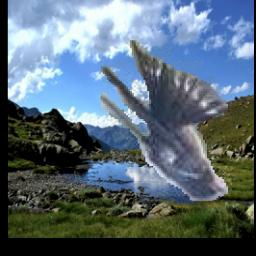Swallow: (99, 38, 231, 202)
